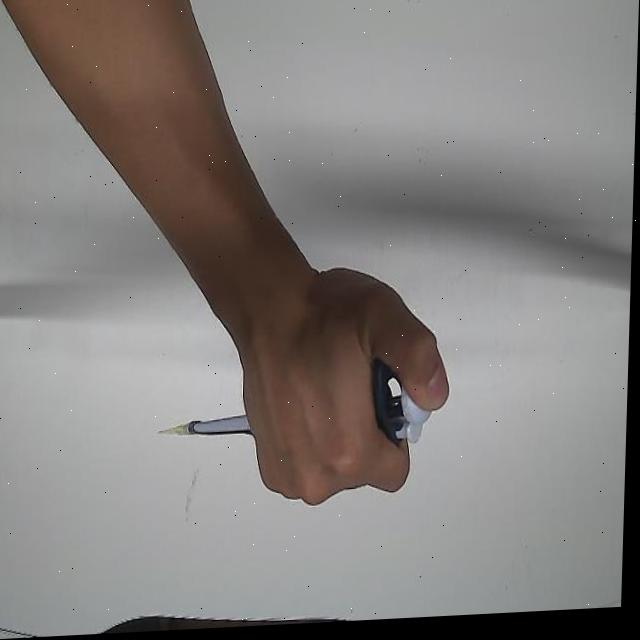Single Channel Pipettor: (193, 357, 462, 459)
